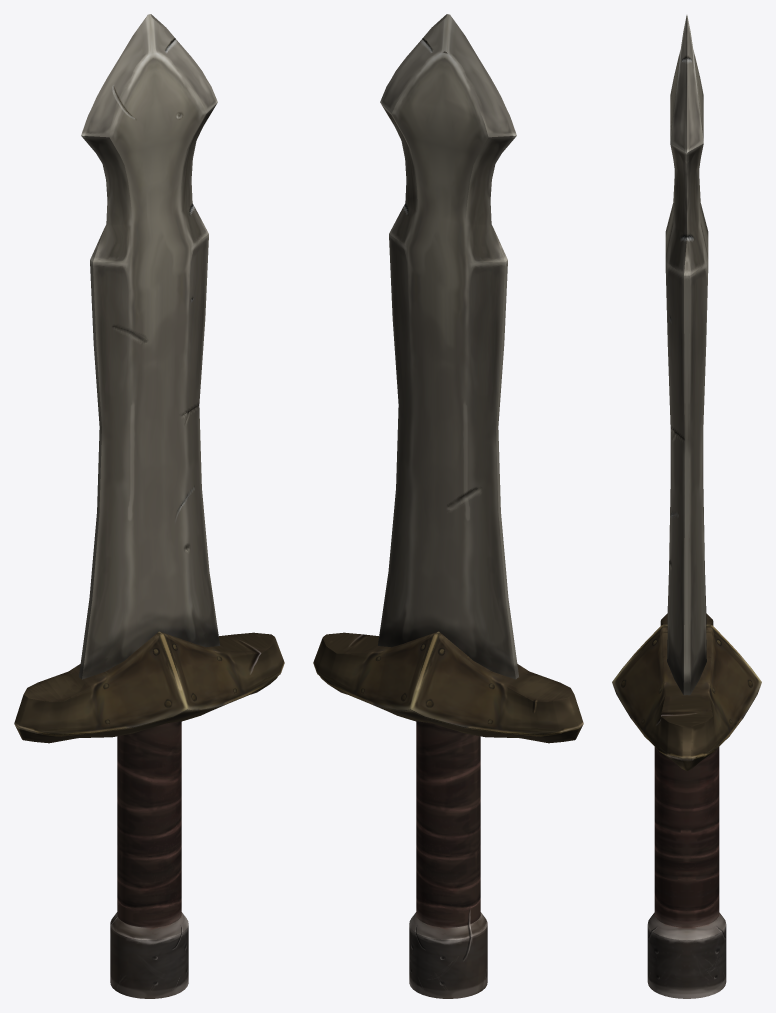
The model's file is Sword.fbx.
3 renders of one model, left to right at view 1: azimuth 30°, elevation 25°; view 2: azimuth 150°, elevation 25°; view 3: azimuth 270°, elevation 25°, orthographic.
Parts seen in each view (by area): view 1: Cylinder; view 2: Cylinder; view 3: Cylinder.
Part boxes in pixels (x1=…): Cylinder: x1=14, y1=14, x2=284, y2=998; Cylinder: x1=313, y1=14, x2=583, y2=998; Cylinder: x1=612, y1=15, x2=761, y2=998.
Size of the model in its own units: 2.07 by 7.2 by 1.01.
